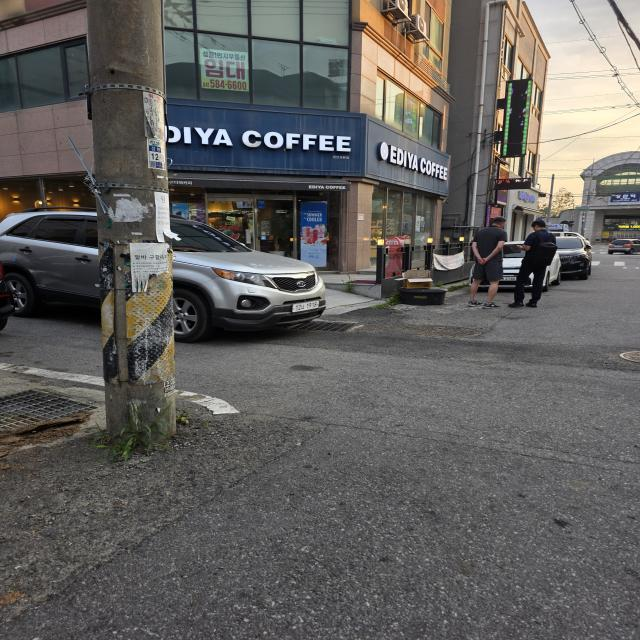car: (0, 207, 317, 341), (474, 238, 564, 292), (526, 226, 606, 276), (608, 238, 640, 257)
